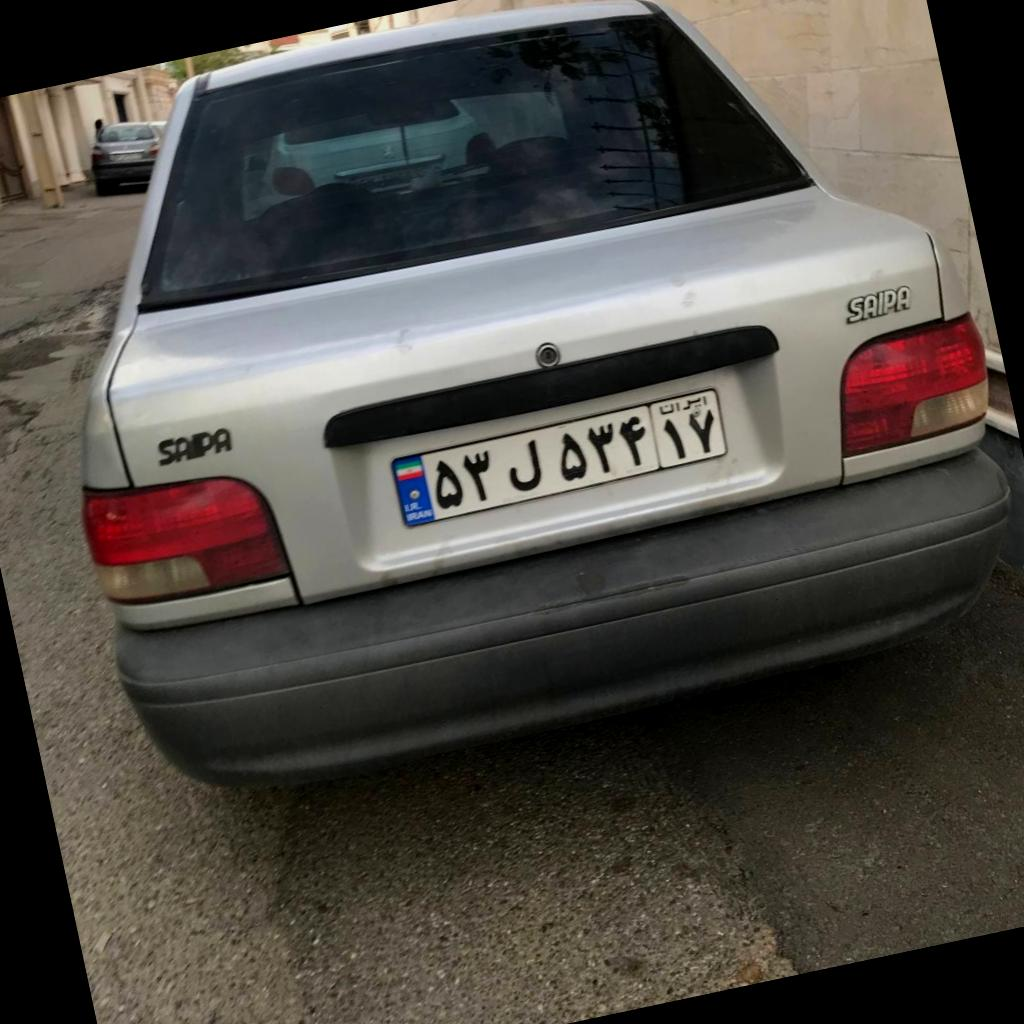Plates: (392, 391, 727, 525)
